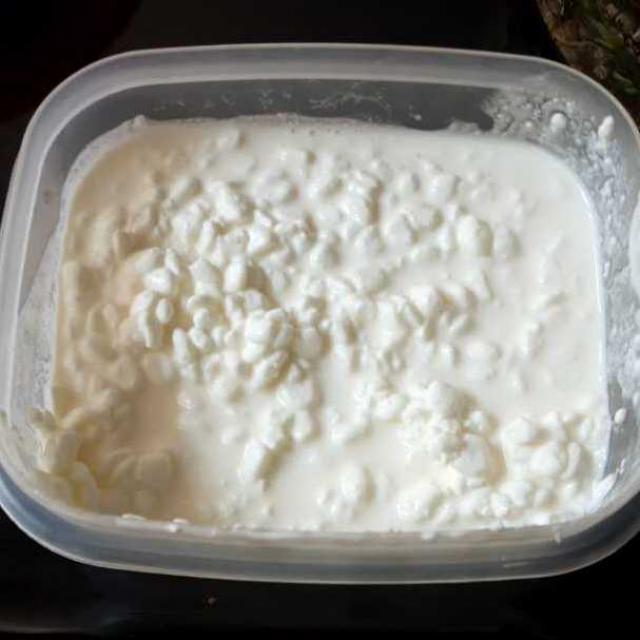cottage-cheese: (32, 115, 606, 529)
